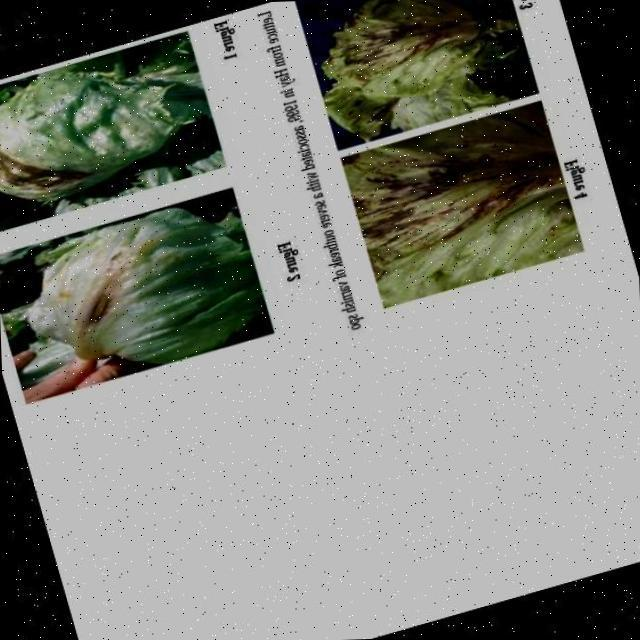Bacterial: (8, 192, 262, 375), (0, 34, 222, 231), (346, 114, 571, 284), (335, 0, 504, 101)
